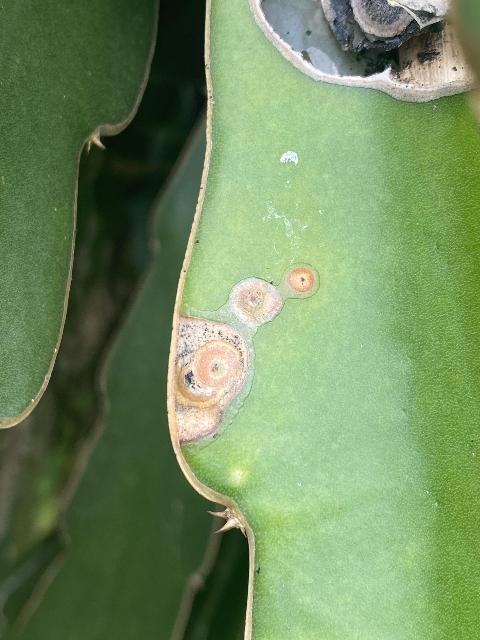stemcanker: (248, 1, 480, 106), (168, 307, 256, 451), (223, 272, 290, 340), (285, 263, 320, 298)
